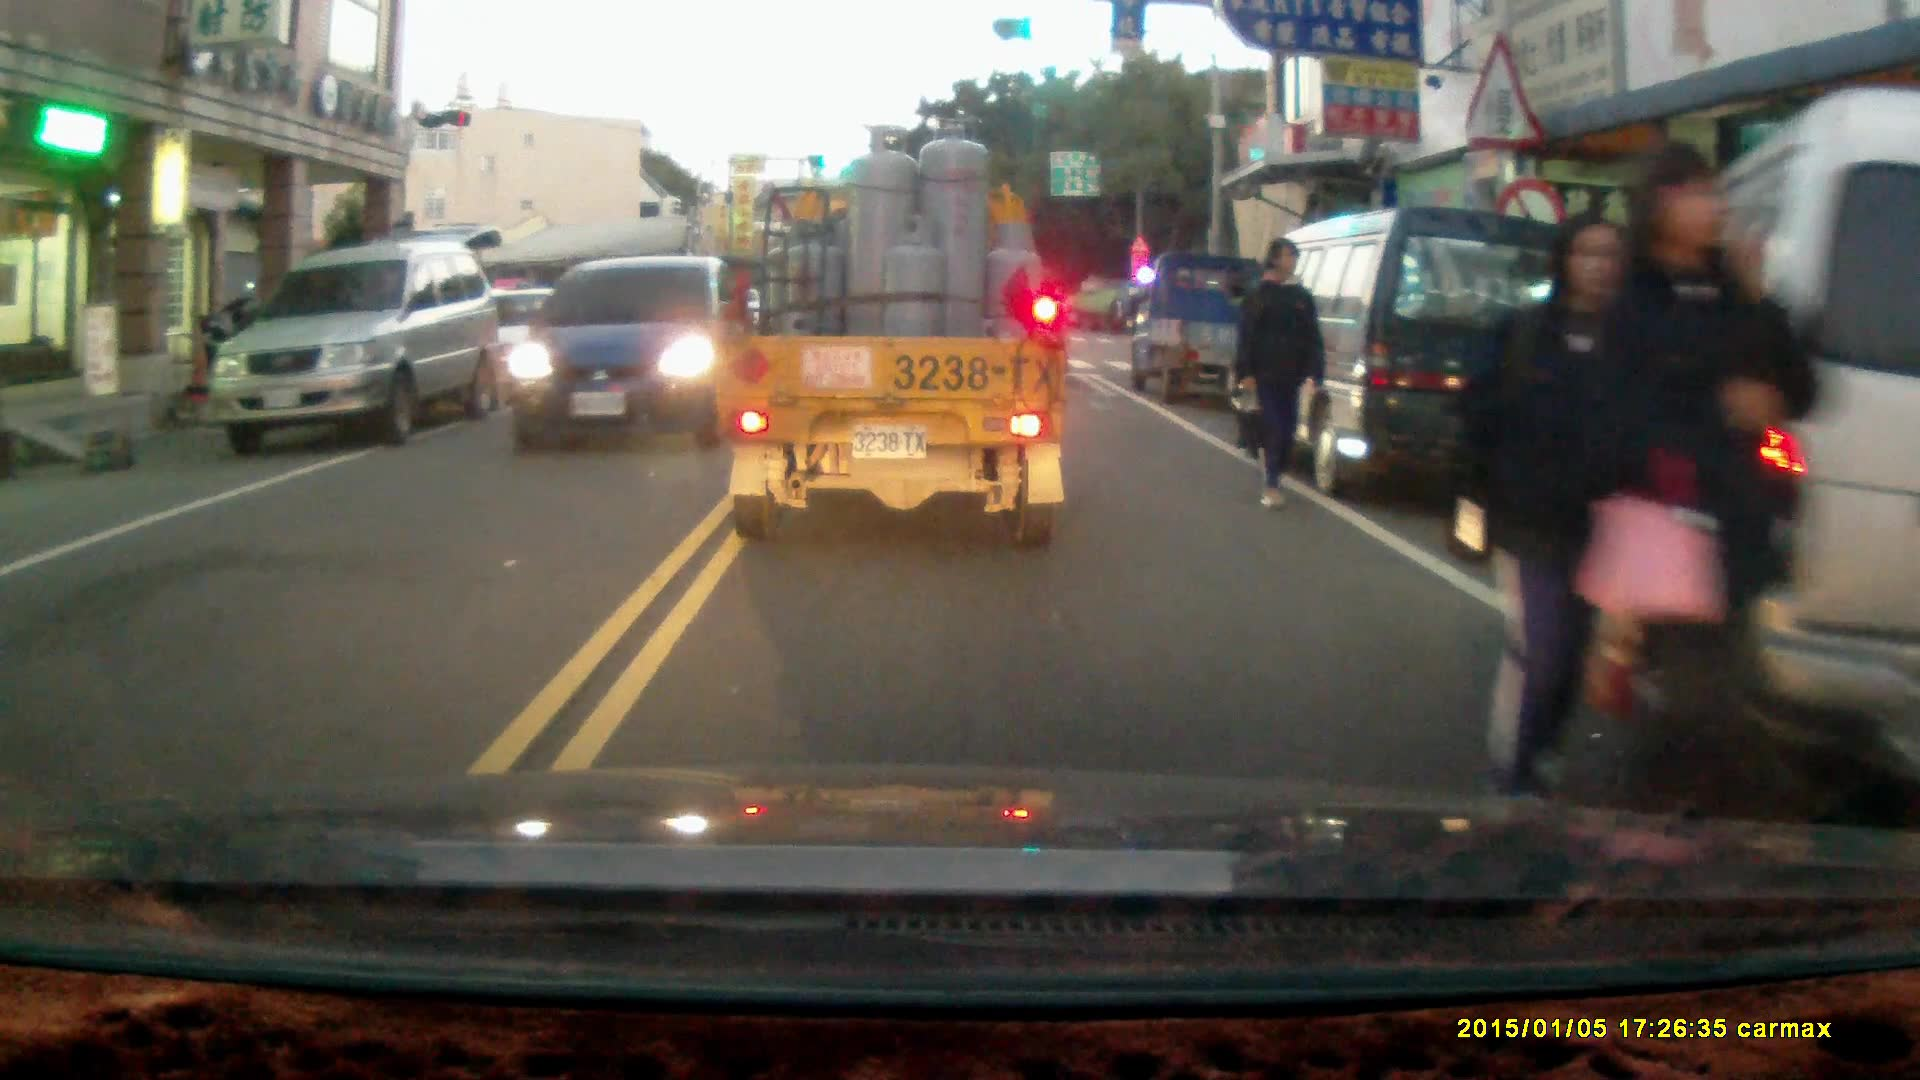pedestrian: (1581, 131, 1825, 833), (1463, 211, 1663, 846), (1236, 235, 1334, 514)
vehicle: (1618, 107, 1920, 789), (713, 121, 1072, 539), (1231, 204, 1600, 519), (214, 243, 505, 456), (503, 258, 769, 449), (427, 287, 599, 409), (1124, 249, 1249, 400)
